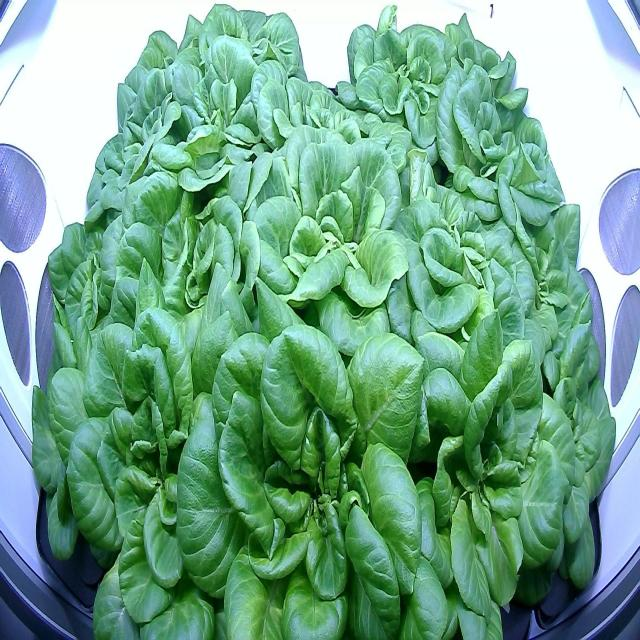Ready: (169, 293, 438, 639), (48, 266, 265, 640), (385, 321, 577, 635), (242, 100, 422, 364), (346, 150, 538, 380), (14, 292, 157, 555), (492, 314, 622, 602), (107, 150, 270, 354), (471, 175, 606, 399), (431, 65, 571, 257), (248, 57, 413, 213), (34, 206, 169, 378), (185, 0, 317, 173), (334, 0, 467, 165), (79, 61, 200, 235), (157, 48, 276, 216), (424, 8, 541, 156), (112, 0, 216, 159)
